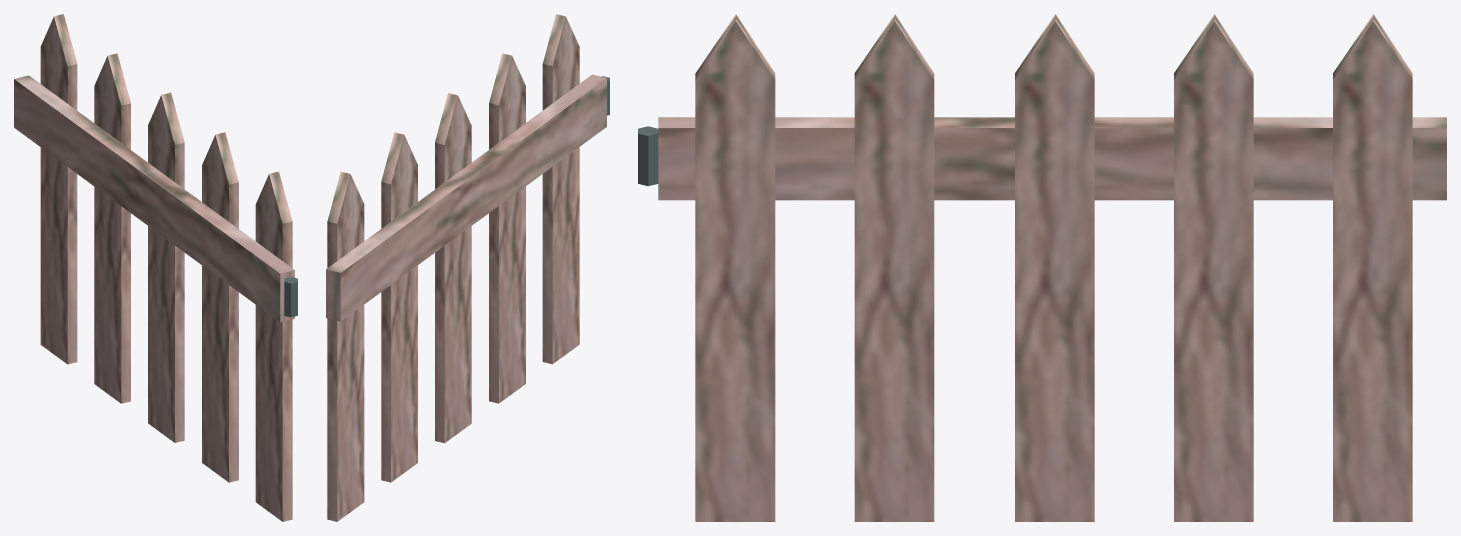
The model's file is FenceGate.fbx.
3 renders of one model, left to right at view 1: azimuth 30°, elevation 25°; view 2: azimuth 150°, elevation 25°; view 3: azimuth 270°, elevation 25°, orthographic. The views are drawn at different scales.
Parts seen in each view (by area): view 1: FenceGate; view 2: FenceGate; view 3: FenceGate.
Boxes of the visible parts, x1,y1,x2,y2 form: FenceGate: (14, 14, 297, 521); FenceGate: (326, 14, 609, 521); FenceGate: (638, 14, 1446, 521).
Bounding box in the file's own units: 0.5335 × 6.93 × 10.15.
Materials: 1 (1 with a texture image).
